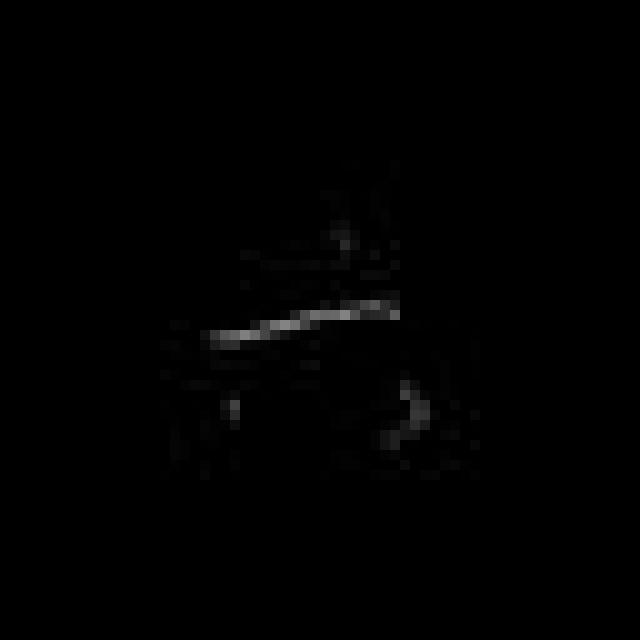6 -six-: (197, 289, 442, 444)
